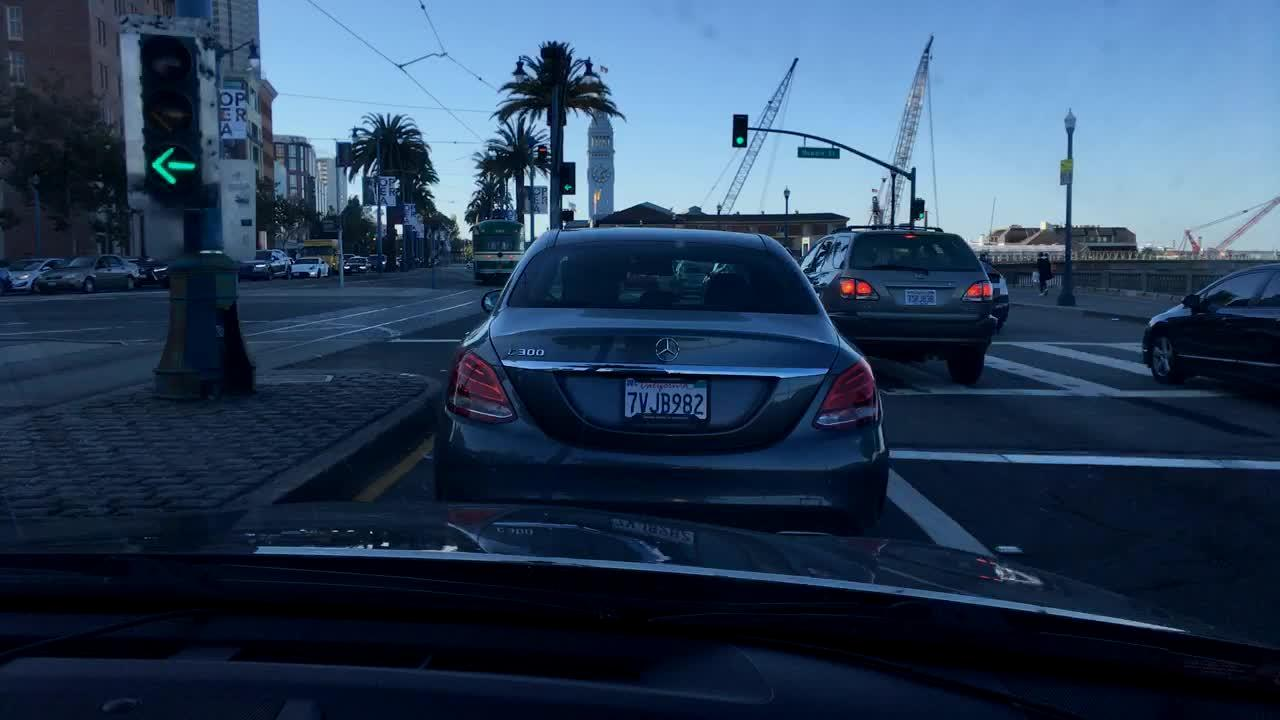Mercedes: (645, 330, 690, 370)
